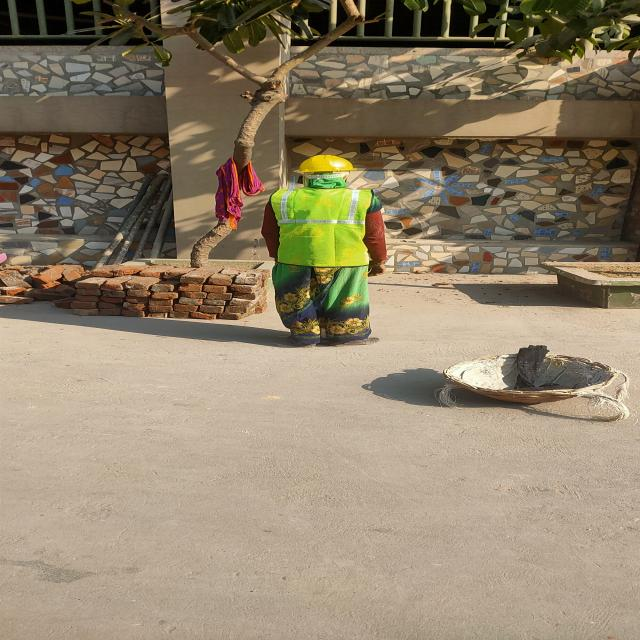safe: (263, 155, 391, 347)
